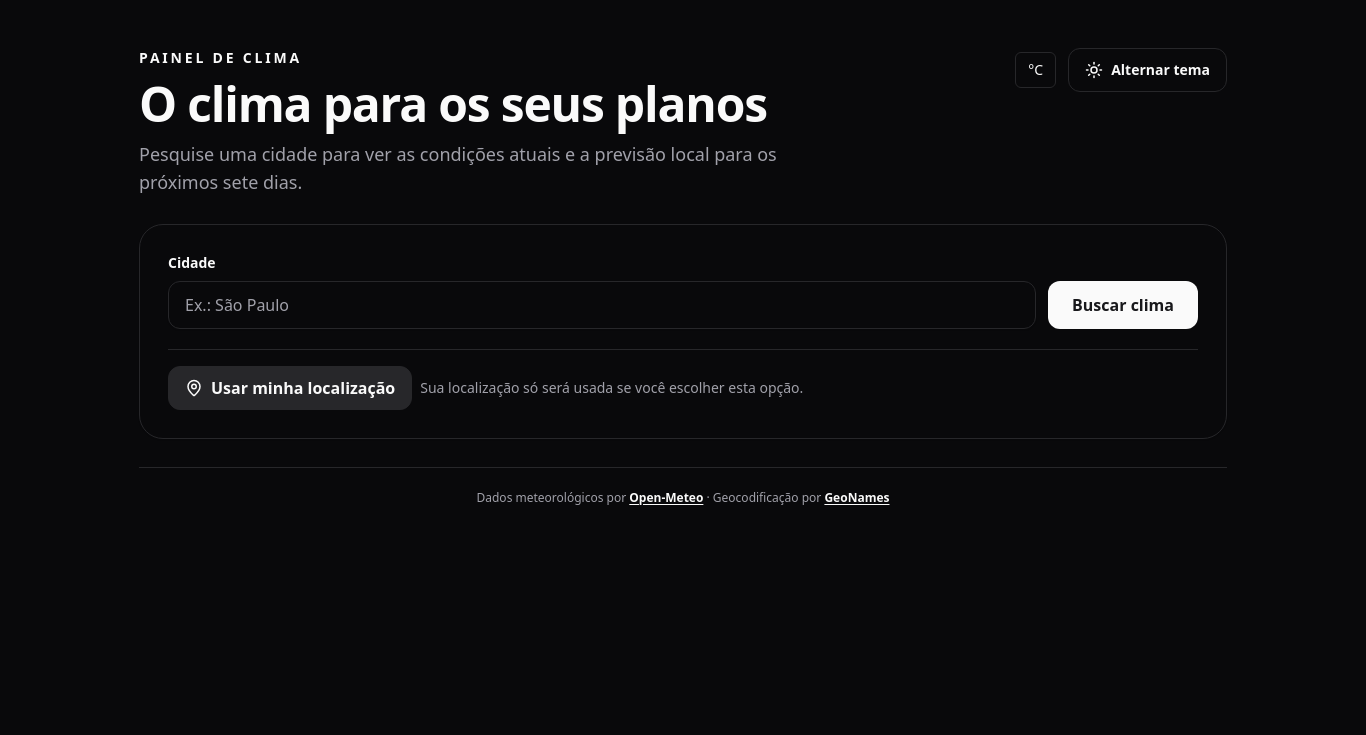
WeatherView browser location › keeps city search usable after permission is refused
Click the button "Usar minha localização".
click(290, 388)  # box [168,366,412,410]
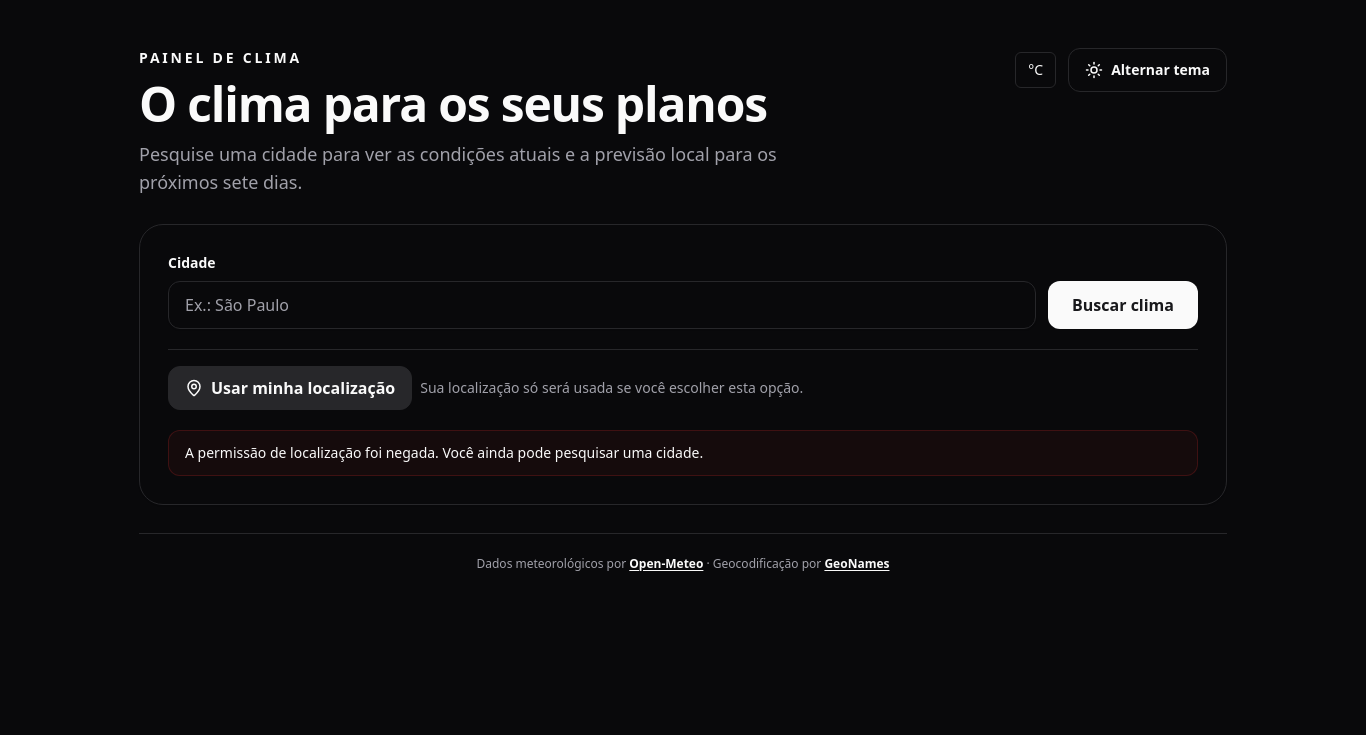
Expected: the message shows "A permissão de localização foi negada", [185,443,703,462]
Type "Porto" into the field labelled "Cidade".
click(602, 305); type("Porto")  # box [168,281,1036,329]
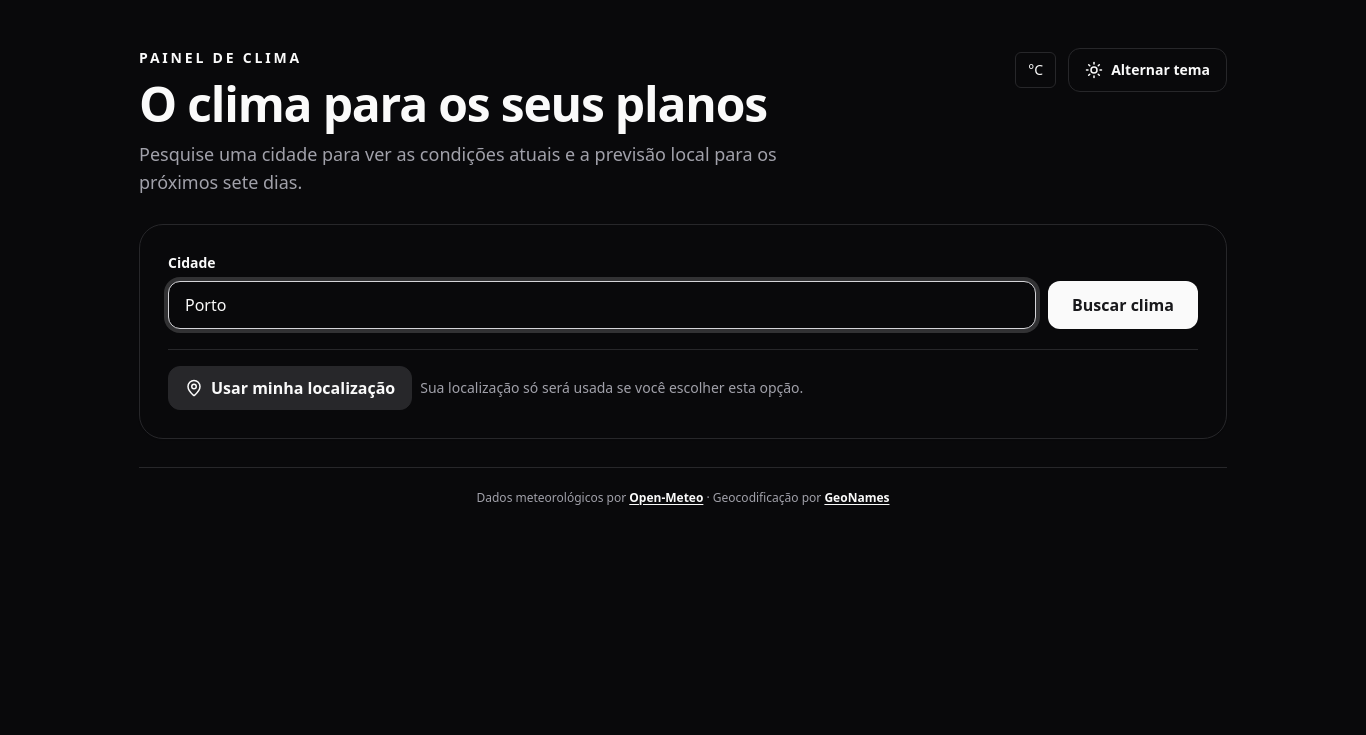
Press Enter
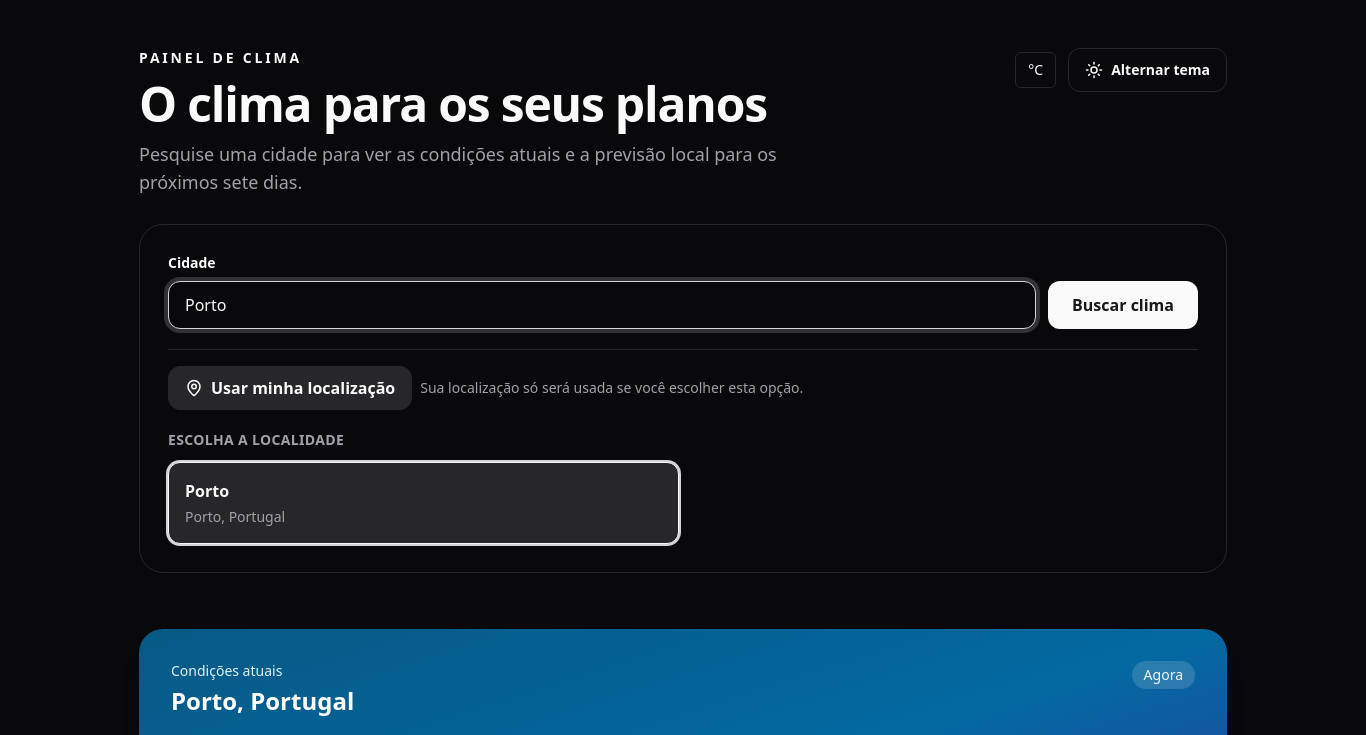
Expected: the heading "Porto, Portugal" is shown, [171,685,354,717]
